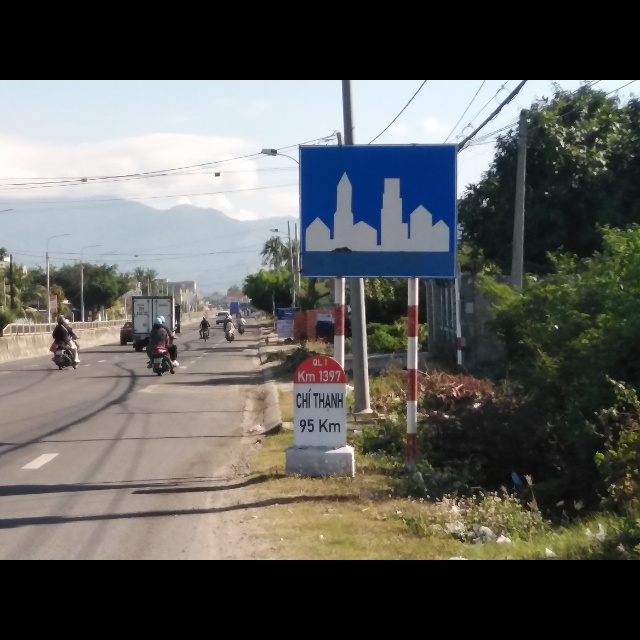Khu đông dân cư: (296, 142, 457, 282)
